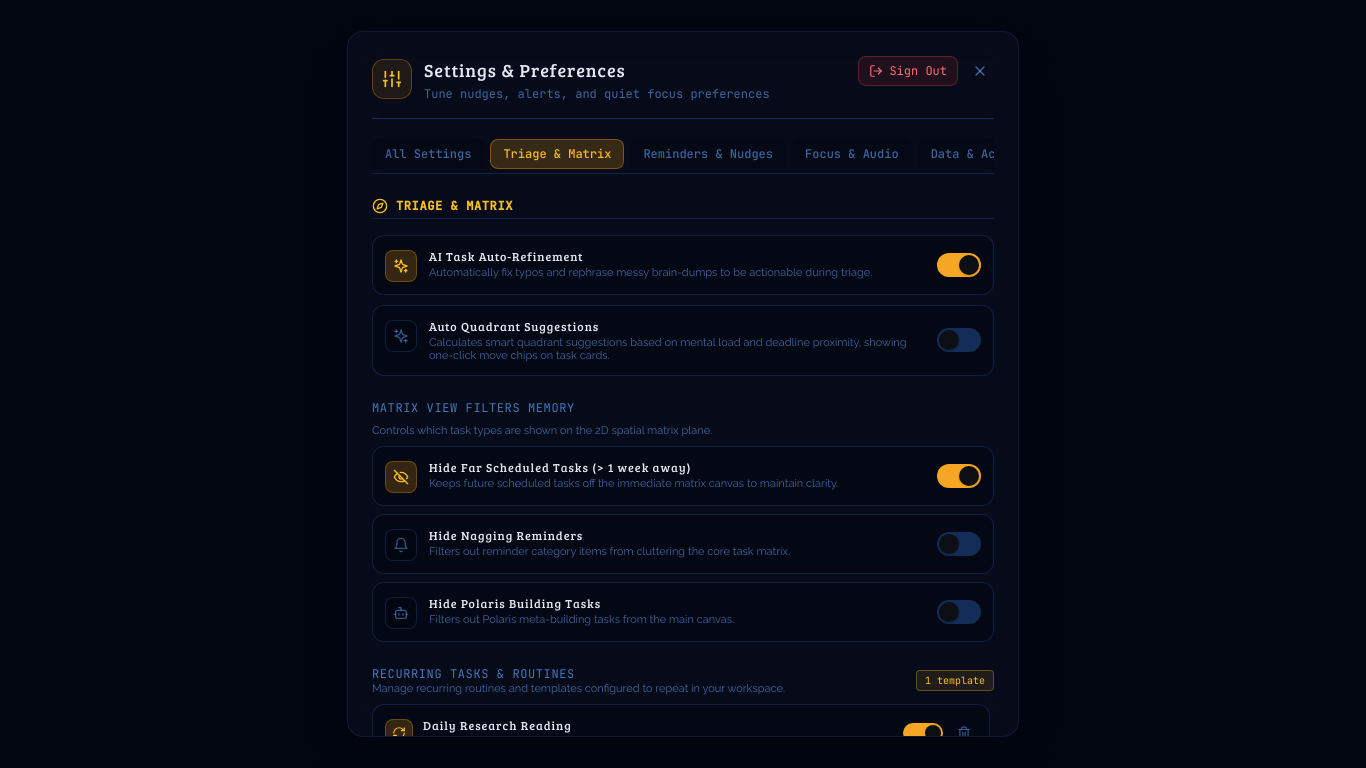
Test: SettingsPanel › renders and manages Recurring Tasks & Routines subsection
This screenshot has width=1366, height=768.
Expected: the text "Recurring Tasks & Routines" is shown, [372, 666, 575, 682]
Expected: the text "Daily Research Reading" is shown, [423, 717, 572, 733]
// Toggle active state
What coordinates should you click on to do the following:
click the switch named "Toggle Daily Research Reading"
I would click on:
 (923, 733)
Its box is [903, 723, 943, 743].
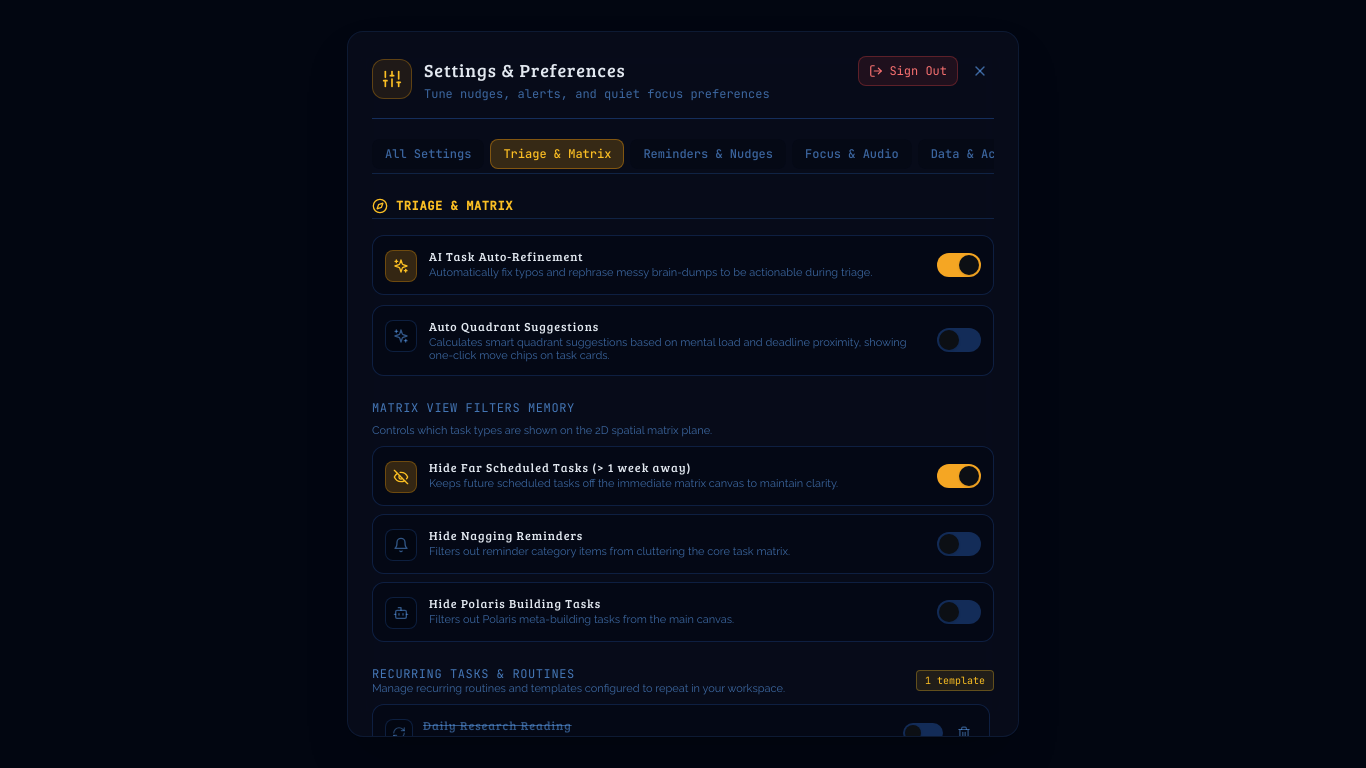
// Delete template
What coordinates should you click on to do the following:
click the button named "Delete Daily Research Reading"
I would click on:
 (964, 733)
Its box is [951, 720, 977, 746].
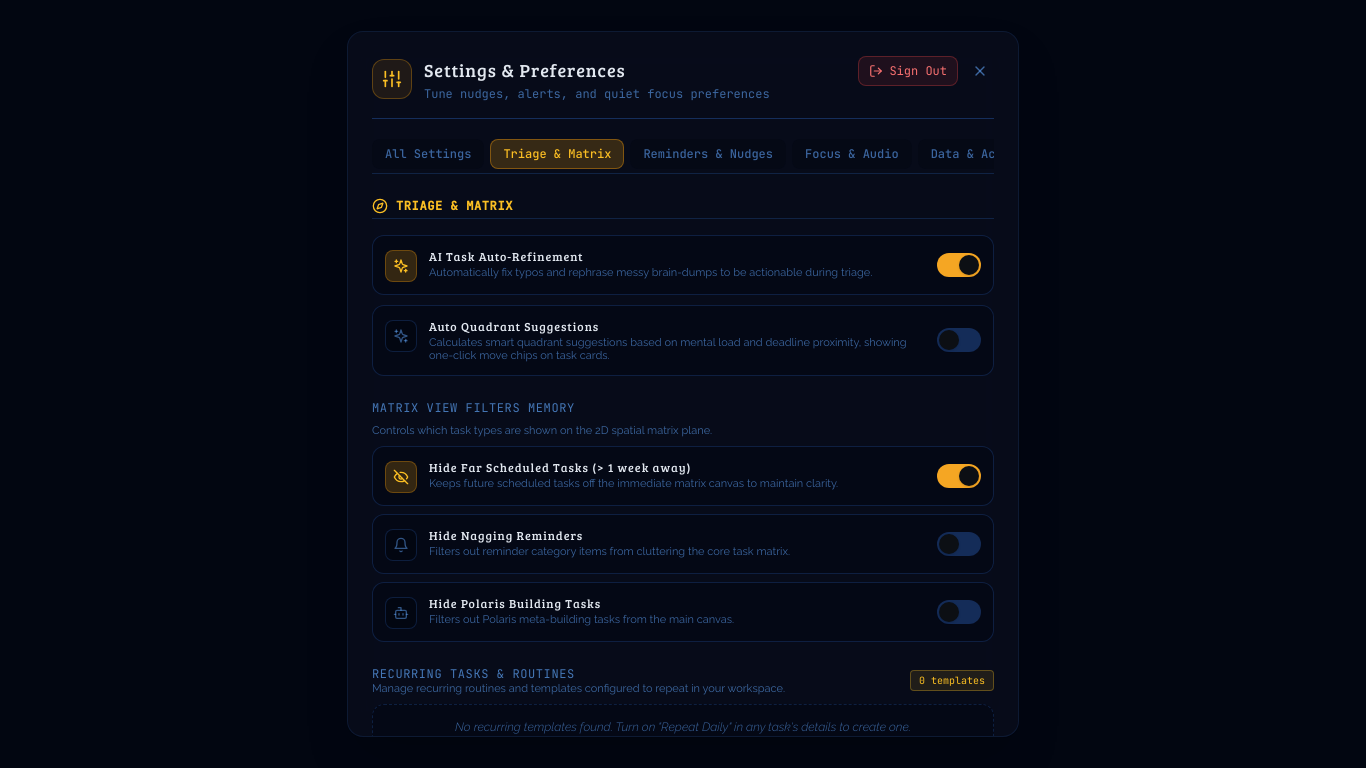
Expected: the text "Daily Research Reading" is gone
